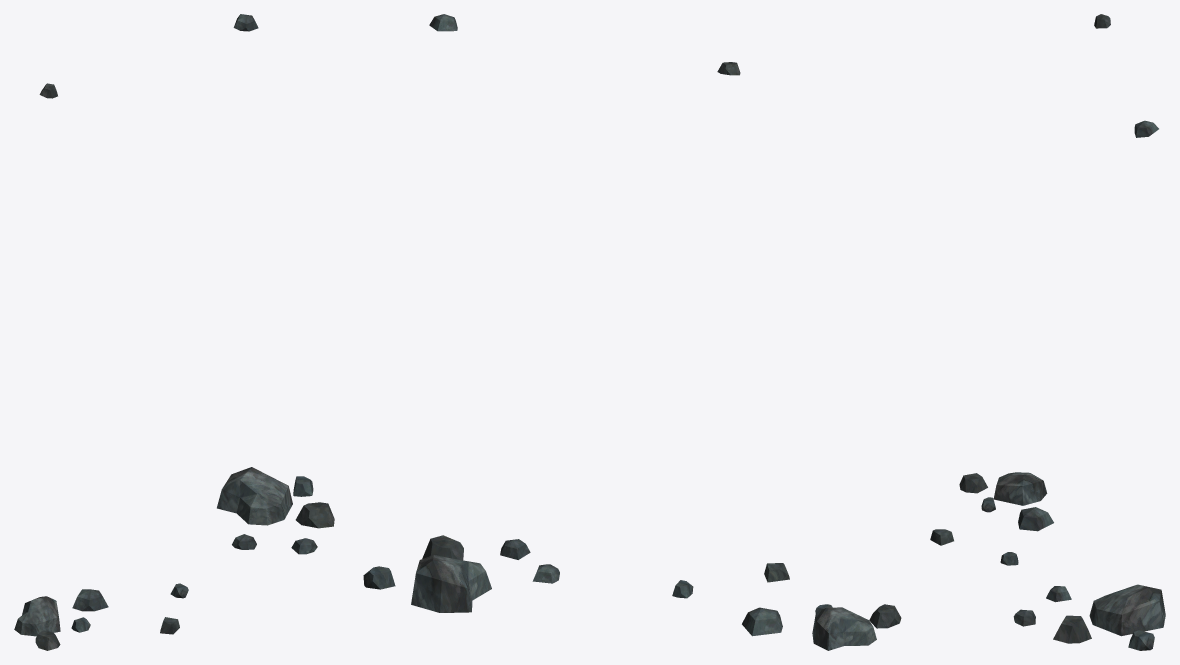
Rendered from object_rubble22.fbx.
3 views of the same model, side by side, from view 1: azimuth 30°, elevation 25°; view 2: azimuth 150°, elevation 25°; view 3: azimuth 270°, elevation 25° (orthographic). The views are drawn at different scales.
Parts seen in each view (by area): view 1: obj0.096; view 2: obj0.096; view 3: obj0.096.
Part boxes in pixels (<box>): obj0.096: <box>14,14,334,650</box>; obj0.096: <box>363,14,901,650</box>; obj0.096: <box>930,14,1165,650</box>.
Bounding box in the file's own units: 7.67 × 10.14 × 4.27.
